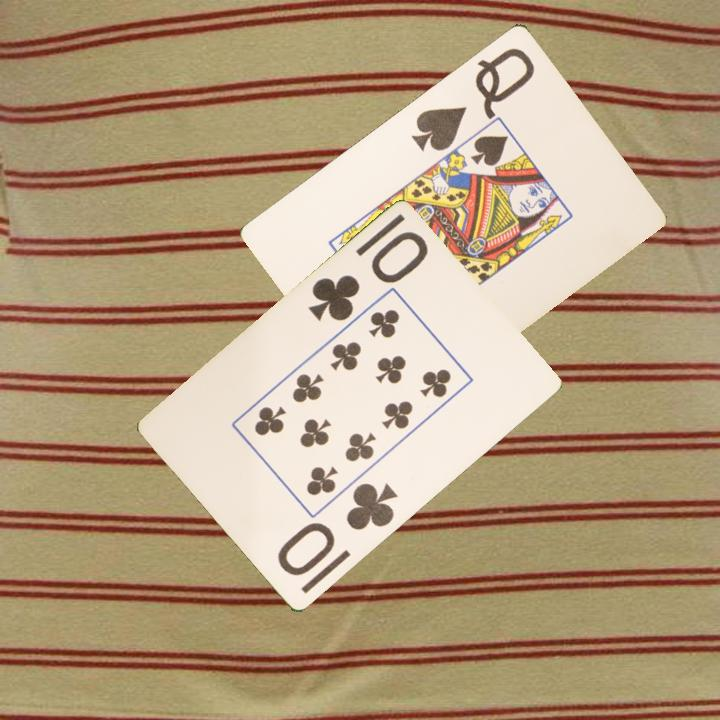10c: (273, 479, 401, 580), (304, 228, 431, 325)
Qs: (407, 43, 538, 154)
